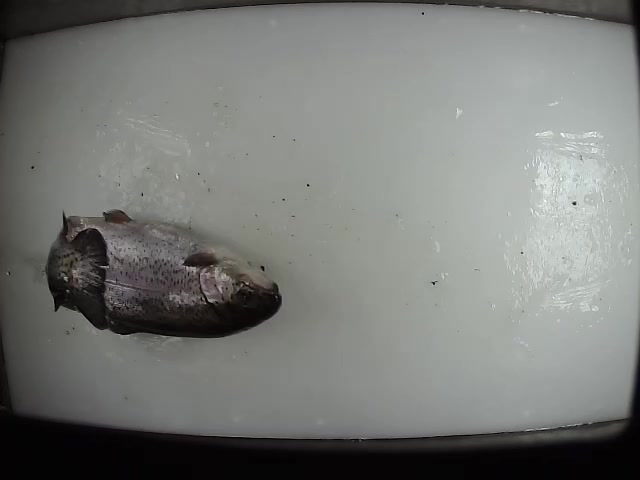Fish: (46, 209, 281, 339)
